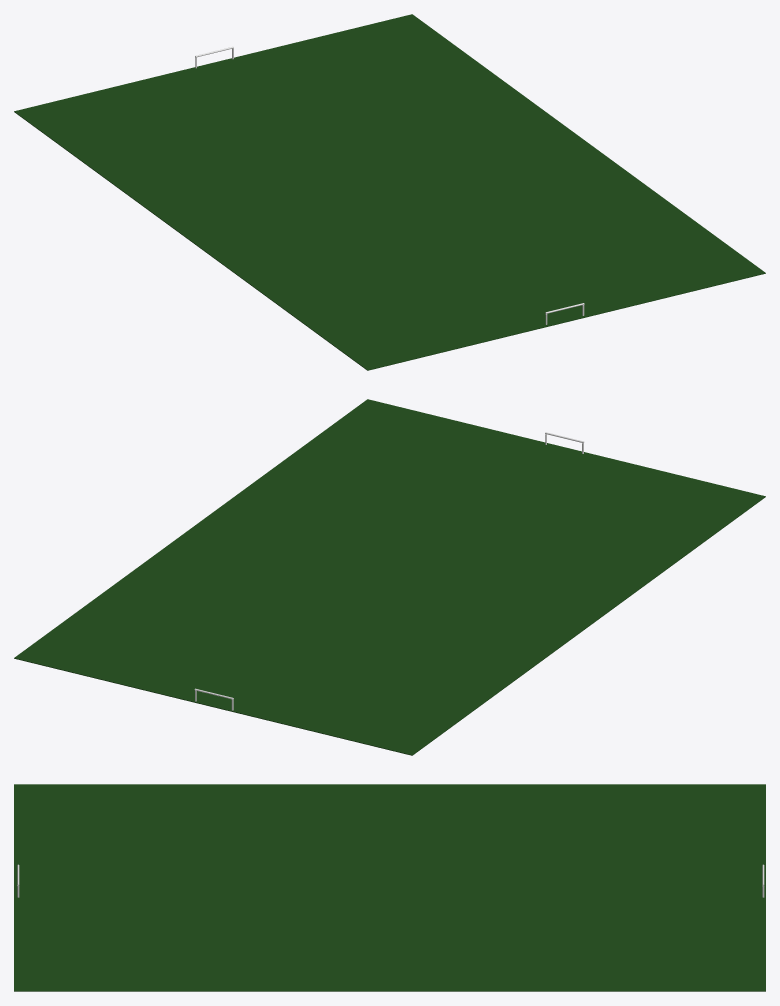
The model's file is campo1.gltf.
3 views of the same model, one above another, from view 1: azimuth 30°, elevation 25°; view 2: azimuth 150°, elevation 25°; view 3: azimuth 270°, elevation 25° (orthographic). The views are drawn at different scales.
Parts seen in each view (by area): view 1: Cube; view 2: Cube; view 3: Cube.
Boxes of the visible parts, x1,y1,x2,y2 form: Cube: (14,14,765,370); Cube: (14,399,765,755); Cube: (14,784,765,991).
Size of the model in its own units: 65.01 by 2.02 by 99.96.
